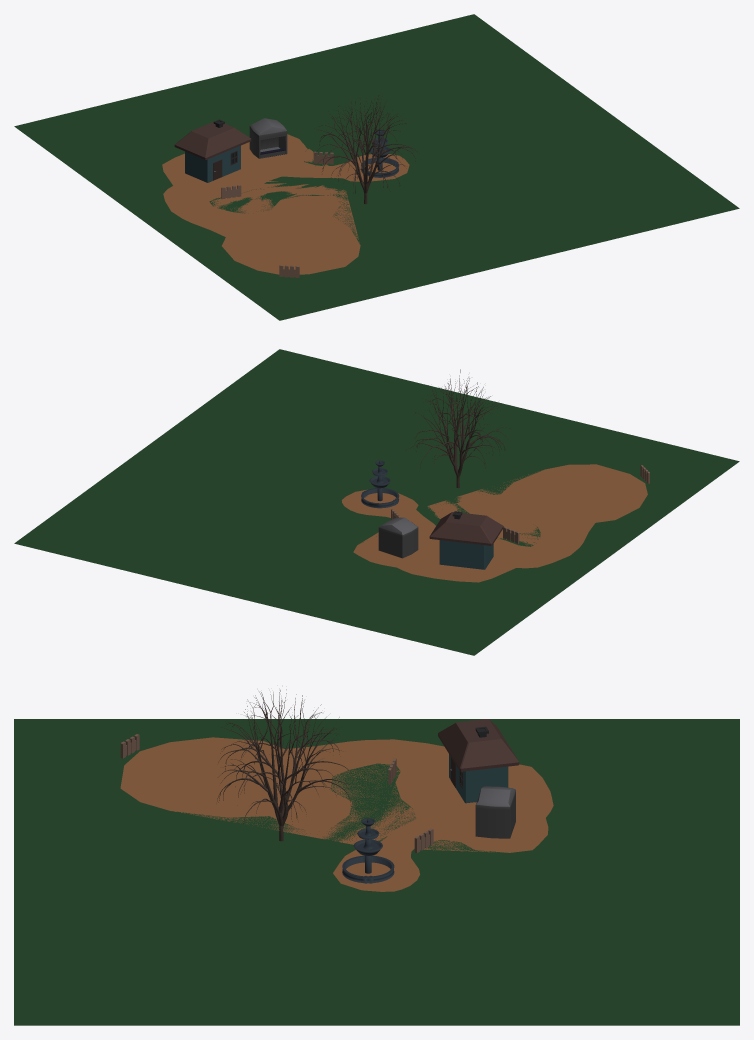
Rendered from pasha huyasha.fbx.
3 renders of one model, top to bottom at view 1: azimuth 30°, elevation 25°; view 2: azimuth 150°, elevation 25°; view 3: azimuth 270°, elevation 25°, orthographic. The views are drawn at different scales.
Parts seen in each view (by area): view 1: Plane, Cube.001, tree, Cube, Cylinder; view 2: Plane, Cube.001, tree, Cube, Cylinder; view 3: Plane, tree, Cube.001, Cube, Cylinder.
Part boxes in pixels (x1=…): Plane: x1=14, y1=14, x2=739, y2=320; Cube.001: x1=174, y1=119, x2=251, y2=182; tree: x1=315, y1=95, x2=419, y2=204; Cube: x1=249, y1=118, x2=287, y2=158; Cylinder: x1=361, y1=130, x2=399, y2=177; Plane: x1=14, y1=349, x2=739, y2=655; Cube.001: x1=429, y1=511, x2=503, y2=569; tree: x1=405, y1=369, x2=508, y2=488; Cube: x1=378, y1=517, x2=418, y2=558; Cylinder: x1=361, y1=460, x2=399, y2=508; Plane: x1=14, y1=719, x2=739, y2=1025; tree: x1=217, y1=689, x2=354, y2=841; Cube.001: x1=438, y1=719, x2=519, y2=803; Cube: x1=475, y1=786, x2=515, y2=838; Cylinder: x1=342, y1=818, x2=394, y2=883.
Bounding box in the file's own units: 18000 × 4267 × 18000.
